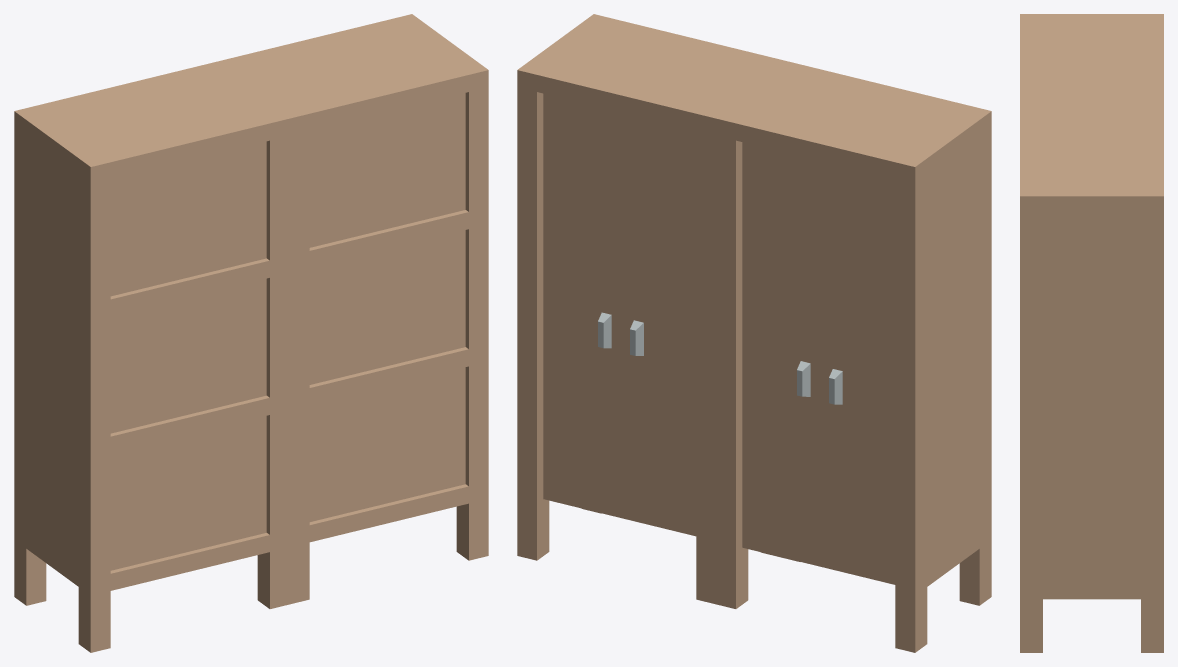
File: wardrobe.glb
3 views of the same model, side by side, from view 1: azimuth 30°, elevation 25°; view 2: azimuth 150°, elevation 25°; view 3: azimuth 270°, elevation 25° (orthographic). The views are drawn at different scales.
Visible parts, largest first — view 1: wardrobe; view 2: wardrobe; view 3: wardrobe.
Part boxes in pixels (x1,y1,x2,y2): wardrobe: [14, 14, 488, 652]; wardrobe: [517, 14, 991, 652]; wardrobe: [1020, 14, 1163, 652].
Size of the model in its own units: 1.8 by 2.1 by 0.6.
